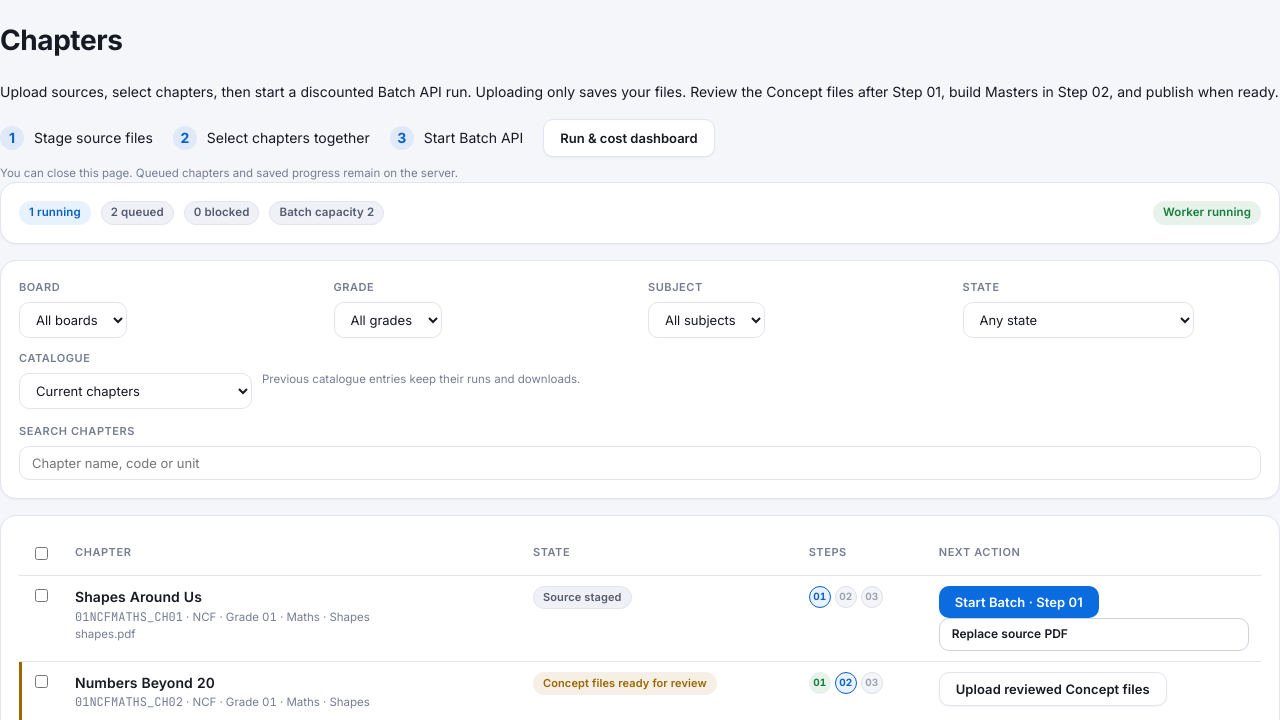
a verdict for a chapter the server can no longer project still renders
Check: the button "Shapes Around Us" is shown, box [75,586,202,608]
Click the checkbox named "Select Shapes Around Us": (42, 596) [35,589,48,602]
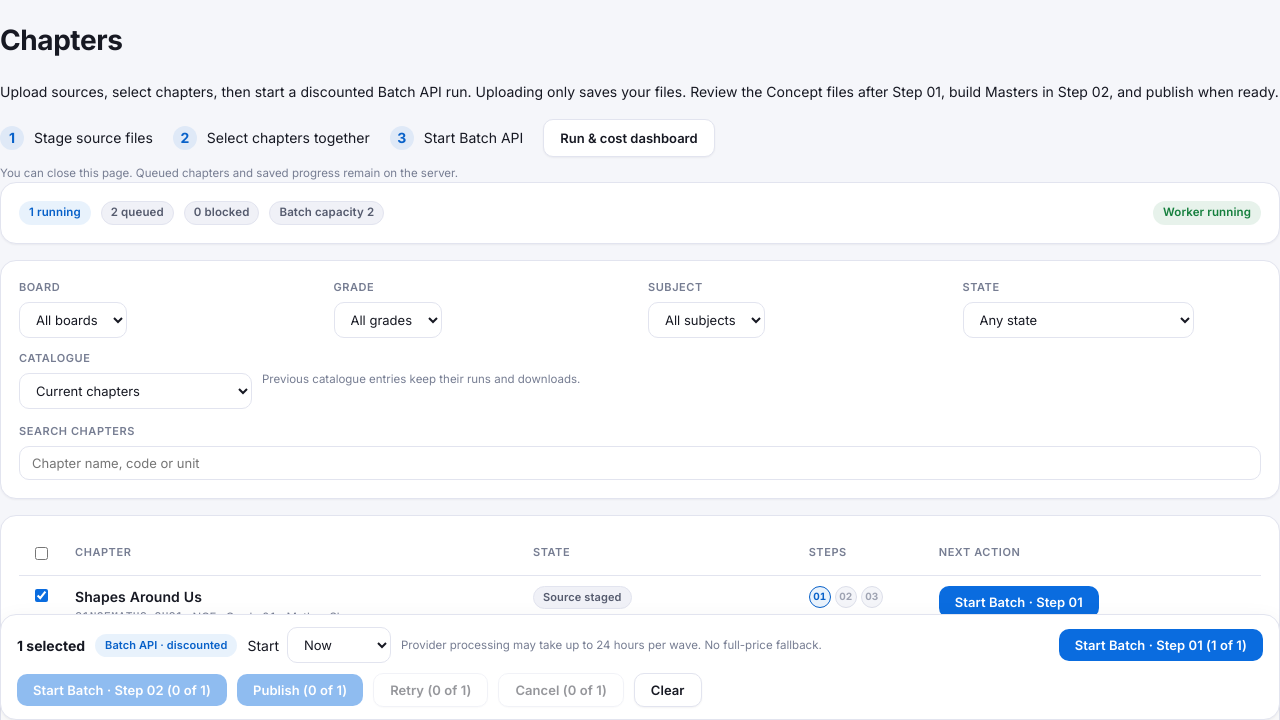
Click the button with test id "push-step01": (1161, 645) [1059,629,1263,661]
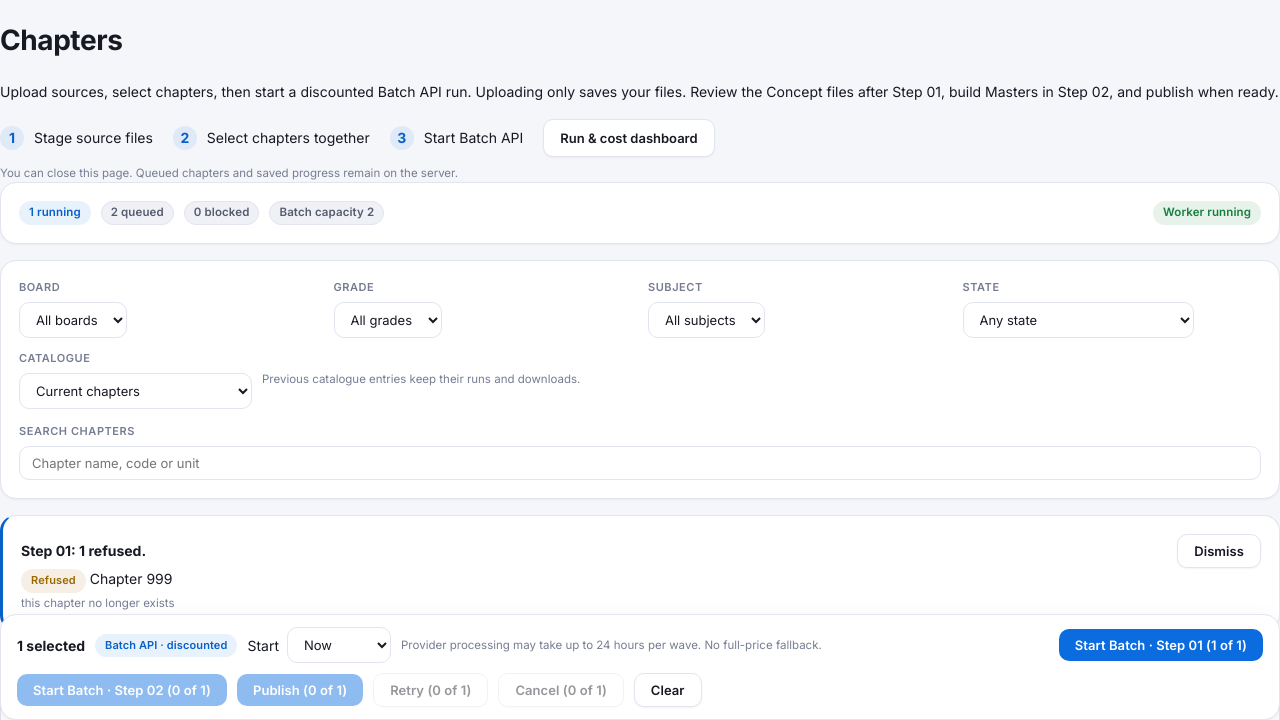
Check: the list item with test id "chapter-999-verdict" shows "Chapter 999", box [90,570,172,587]
Check: the text "this chapter no longer exists" is shown, box [21,596,174,610]
